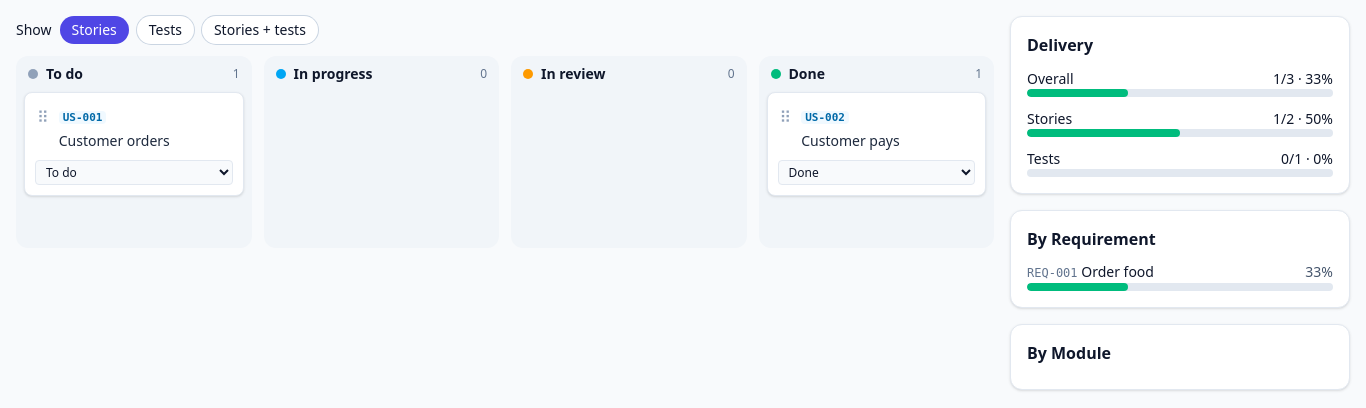
Test: Board › places stories in their status columns and shows roll-ups
Expected: the text "Customer orders" is shown, [59,131,170,150]
Expected: the text "Customer pays" is shown, [801,131,900,150]
Click the button "Tests".
click(165, 30)  # box [137,16,194,44]
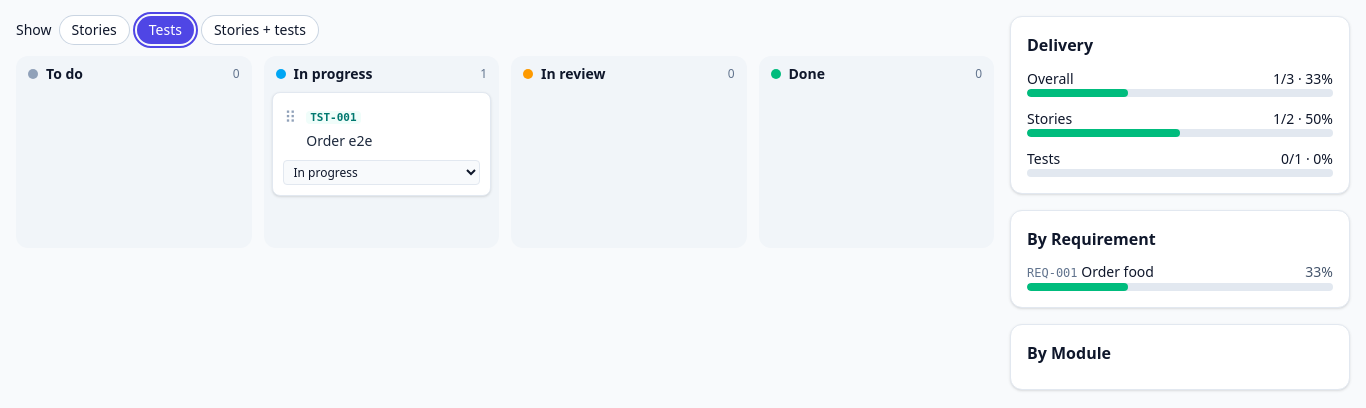
Result: the text "Order e2e" is shown at [306,131,372,150]
